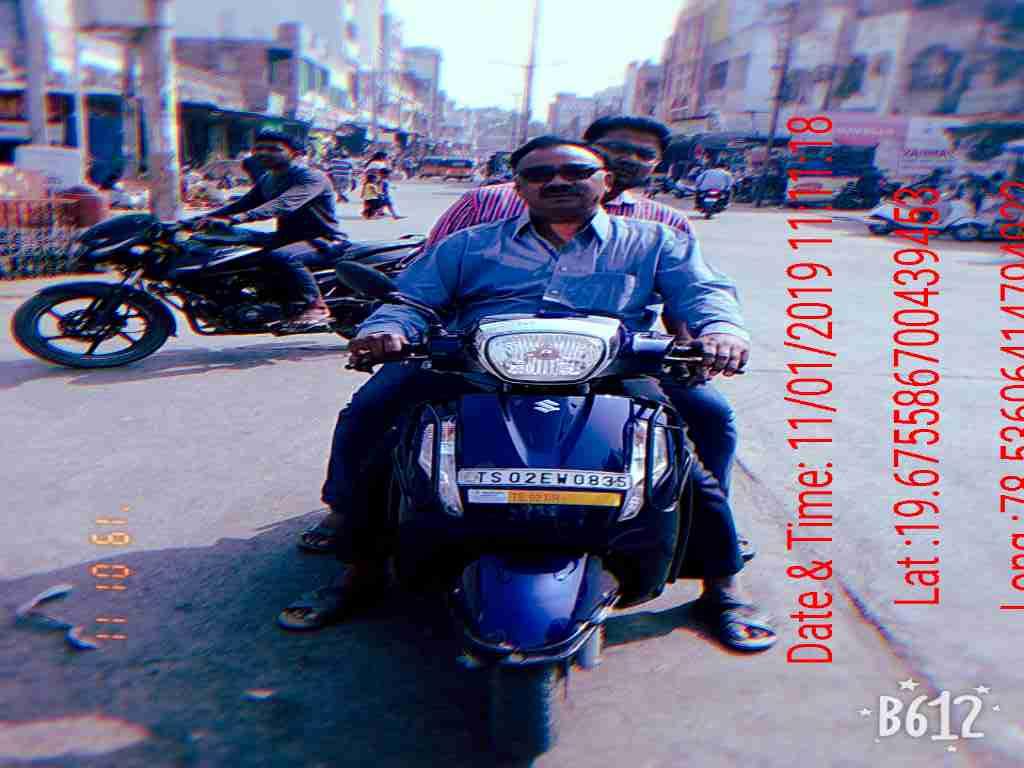plate: (456, 459, 635, 492)
